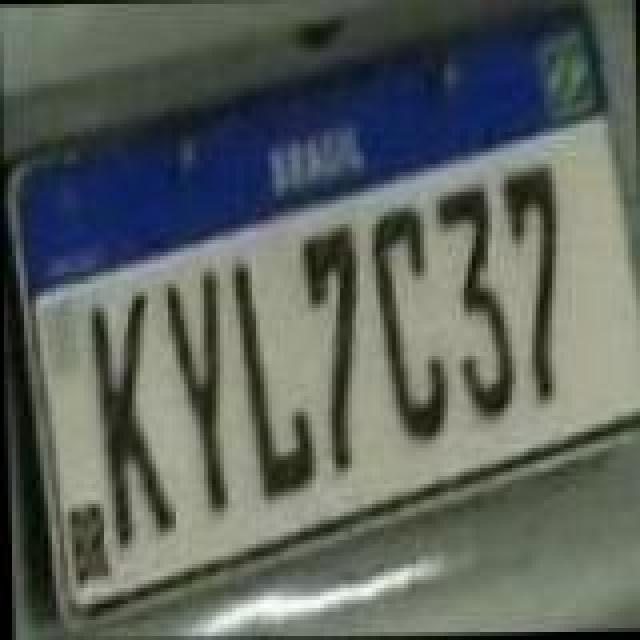3: (434, 184, 518, 424)
7: (300, 224, 364, 476), (500, 160, 564, 408)
C: (366, 208, 450, 448)
K: (88, 290, 172, 550)
L: (232, 254, 316, 502)
Y: (160, 268, 228, 516)
